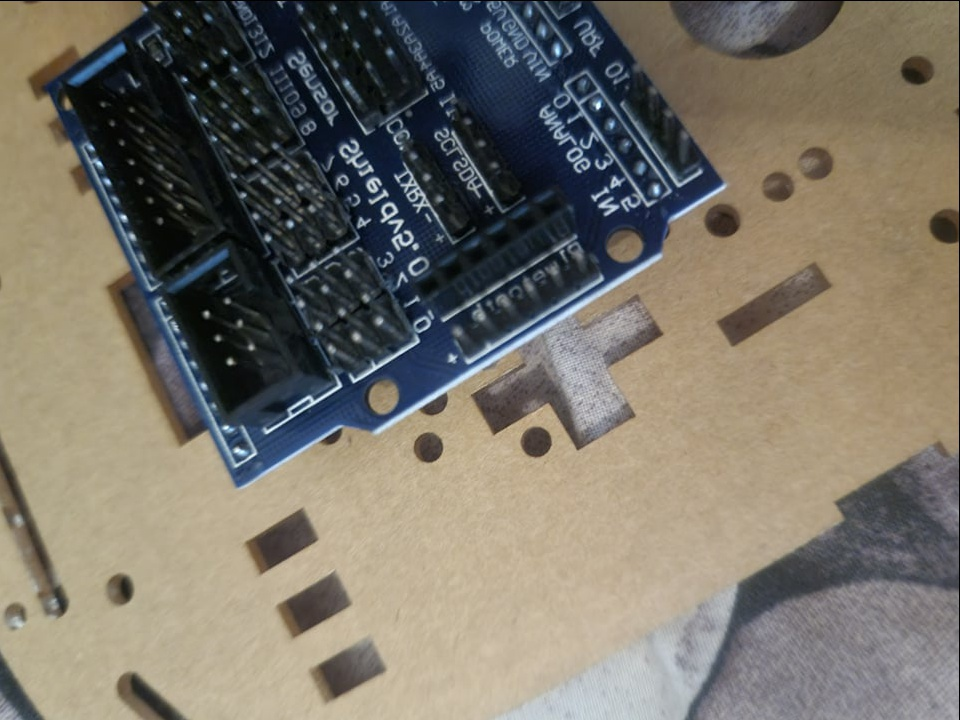5V EXPANSION: (41, 0, 729, 488)
